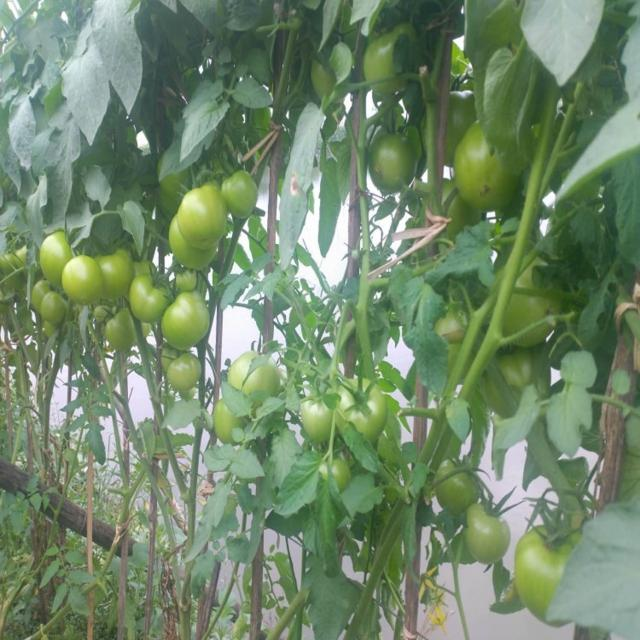tomato: (456, 133, 516, 207), (520, 518, 564, 607), (176, 185, 230, 244), (466, 502, 511, 563), (374, 129, 416, 192), (341, 377, 389, 431), (162, 296, 212, 346), (61, 256, 107, 307), (506, 286, 563, 325), (368, 30, 402, 94), (172, 226, 222, 266), (442, 457, 479, 511), (223, 165, 261, 213), (103, 250, 133, 306), (135, 273, 167, 324), (299, 399, 333, 446), (171, 351, 210, 390), (41, 238, 73, 278), (235, 360, 274, 392), (105, 314, 137, 351), (503, 347, 531, 387), (307, 61, 333, 103), (38, 289, 64, 324), (169, 262, 200, 288), (216, 410, 241, 439), (435, 316, 465, 339), (332, 459, 355, 487), (20, 245, 32, 266)
